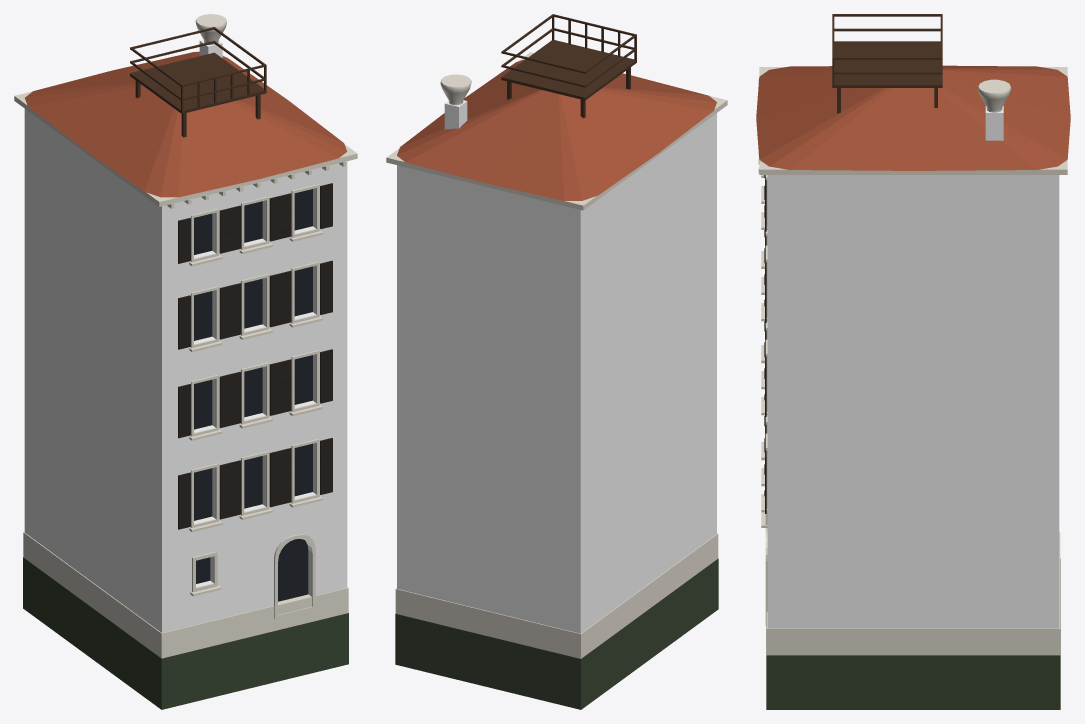
File: casa-altana.glb
The picture shows the model from 3 angles, left to right: view 1: azimuth 30°, elevation 25°; view 2: azimuth 150°, elevation 25°; view 3: azimuth 270°, elevation 25°; orthographic projection. The views are drawn at different scales.
Parts seen in each view (by area): view 1: wall113, roof116, algae115, stone114, wood125, stone117, glass1, stone0, glass6, glass15, glass24, glass42 (+42 smaller); view 2: wall113, roof116, algae115, stone114, wood125, stone117, stone120, wall119; view 3: wall113, roof116, algae115, stone114, wood125, stone117, stone120, wall119.
Boxes of the visible parts, x1,y1,x2,y2 form: wall113: (24, 109, 347, 632); roof116: (25, 52, 347, 197); algae115: (23, 557, 348, 709); stone114: (23, 532, 348, 658); wood125: (130, 52, 266, 113); stone117: (14, 50, 357, 206); glass1: (278, 539, 308, 601); stone0: (274, 534, 315, 619); glass6: (194, 468, 212, 520); glass15: (244, 456, 262, 508); glass24: (294, 443, 312, 496); glass42: (244, 367, 262, 417); wall113: (397, 113, 716, 633); roof116: (397, 59, 716, 200); algae115: (395, 558, 718, 709); stone114: (395, 533, 718, 658); wood125: (501, 40, 636, 100); stone117: (386, 52, 727, 210); stone120: (440, 74, 471, 105); wall119: (444, 100, 467, 129); wall113: (767, 175, 1059, 628); roof116: (756, 65, 1070, 170); algae115: (766, 559, 1060, 709); stone114: (766, 532, 1060, 655); wood125: (832, 41, 942, 87); stone117: (759, 67, 1067, 174); stone120: (977, 79, 1011, 112); wall119: (985, 105, 1003, 140).
Bounding box in the file's own units: 7.7 × 21.28 × 9.7.
